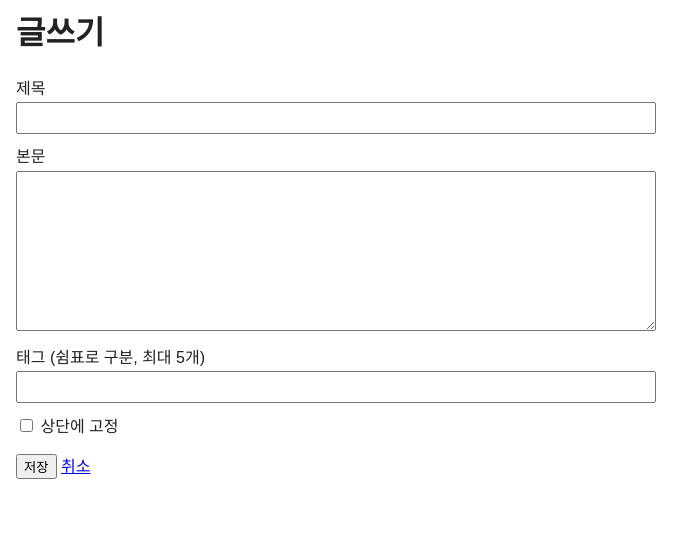
PostFormPage › 로그인하지 않았을 때의 401 은 안내 문구로 바꿔 보여 준다
Click the button "저장": (36, 466) 16,454 -> 56,479
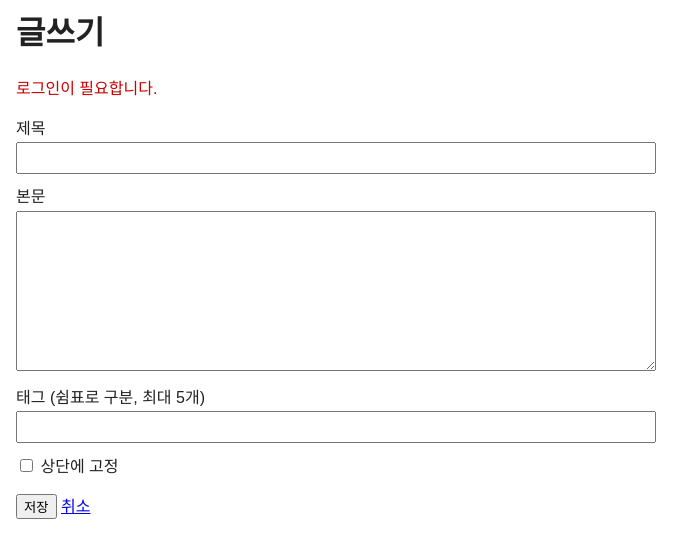
Now the message reads "로그인이 필요합니다.", box 16,80 -> 157,97
